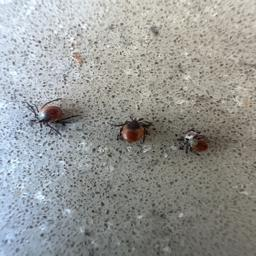Ixodes scapularis: (27, 102, 81, 135), (109, 118, 152, 144), (176, 130, 213, 157)
